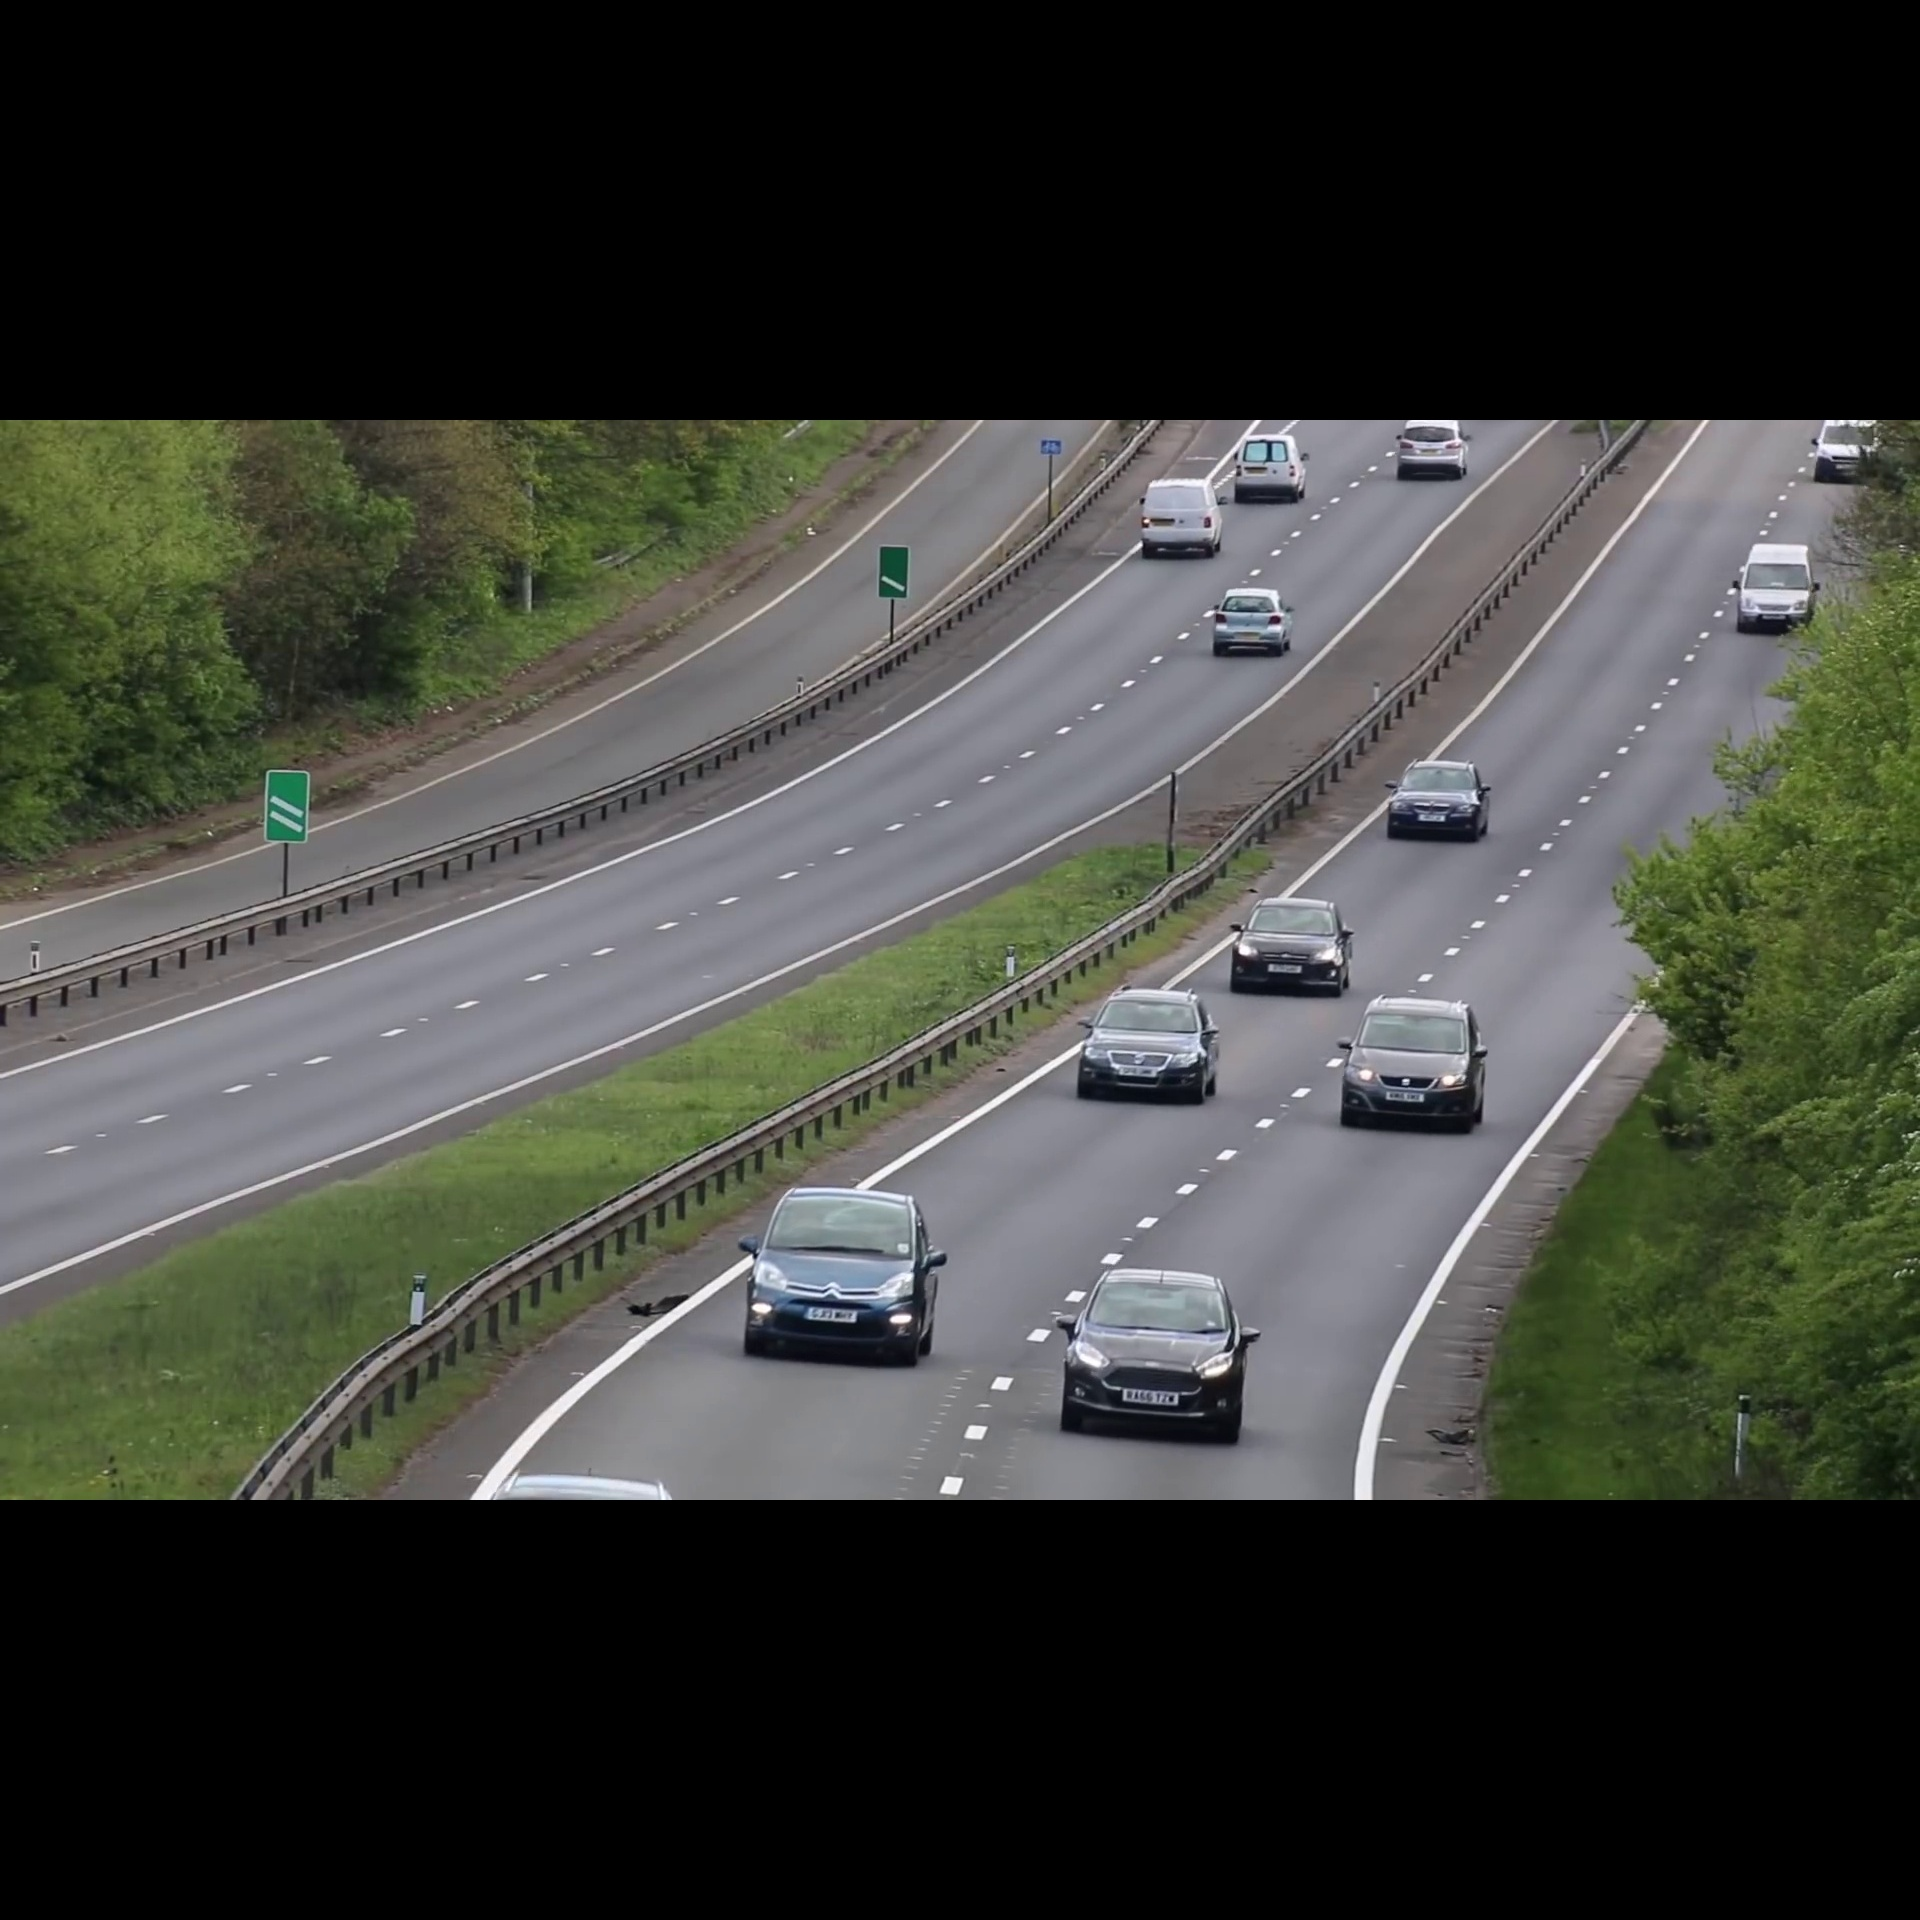vehicle: (1050, 1257, 1261, 1456), (735, 1182, 948, 1361), (1331, 995, 1493, 1138), (1071, 979, 1224, 1108), (1225, 891, 1357, 1000), (1382, 754, 1493, 847), (1734, 542, 1823, 640), (1138, 475, 1227, 559), (1206, 580, 1298, 659), (1233, 431, 1315, 506), (1393, 418, 1475, 484), (1809, 420, 1885, 489)
